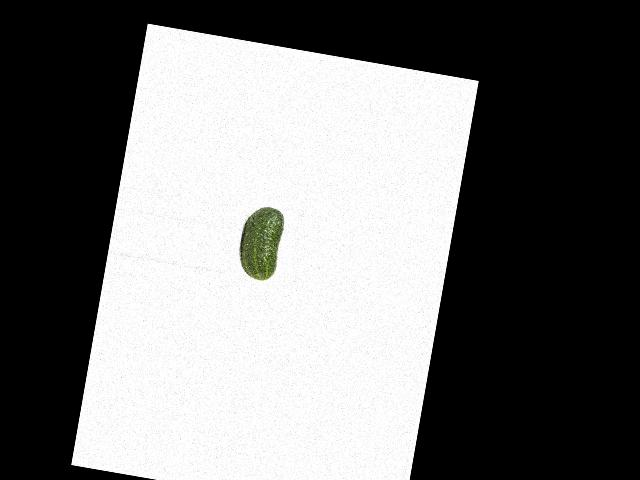cucumber: (235, 203, 285, 282)
